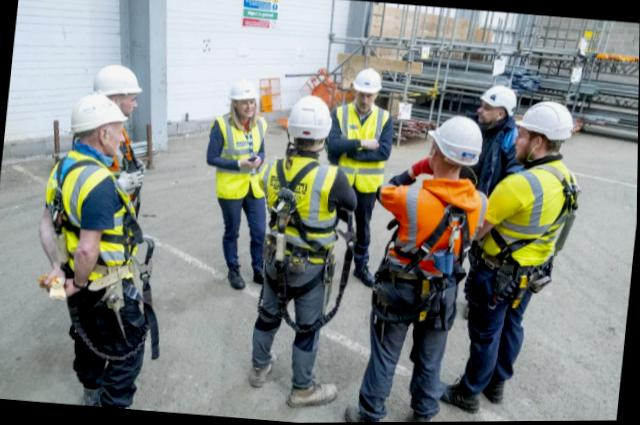helmet: (63, 91, 134, 133), (426, 112, 483, 162), (279, 95, 334, 145), (514, 98, 581, 139), (91, 61, 144, 100), (475, 84, 520, 118), (347, 67, 382, 93), (228, 77, 259, 102)
vest: (39, 157, 141, 280), (481, 158, 577, 263), (392, 177, 480, 271), (267, 161, 340, 258), (208, 116, 271, 197), (339, 104, 388, 179), (113, 120, 132, 171)
